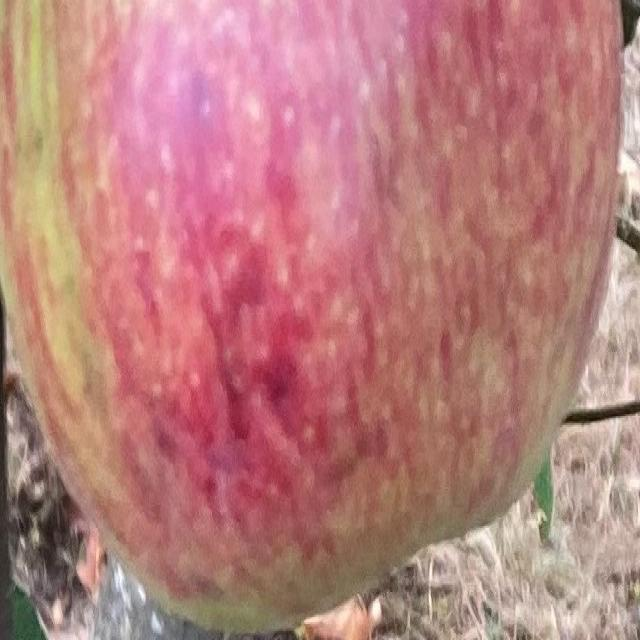Apples: (0, 0, 623, 633)
